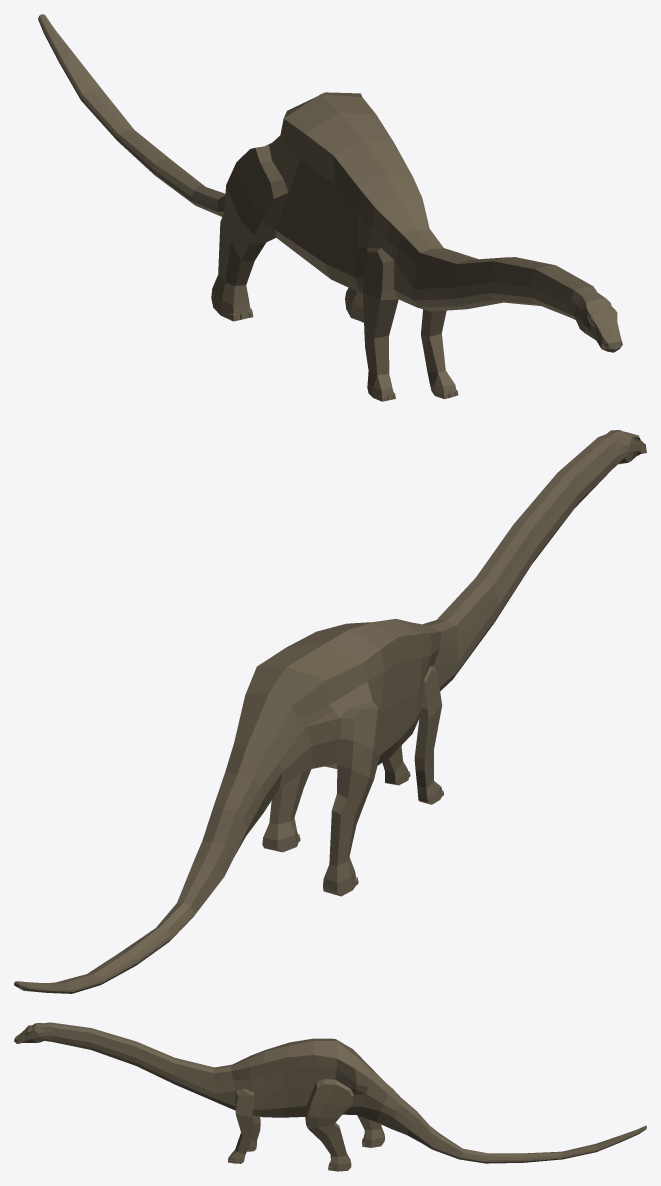
The model's file is Apatosaurus.fbx.
3 views of the same model, one above another, from view 1: azimuth 30°, elevation 25°; view 2: azimuth 150°, elevation 25°; view 3: azimuth 270°, elevation 25° (orthographic). The views are drawn at different scales.
Visible parts, largest first — view 1: Cylinder; view 2: Cylinder; view 3: Cylinder.
Boxes of the visible parts, <box> form: Cylinder: <box>38,14,622,401</box>; Cylinder: <box>14,430,646,993</box>; Cylinder: <box>14,1022,646,1171</box>.
Bounding box in the file's own units: 570 × 1101 × 4956.
